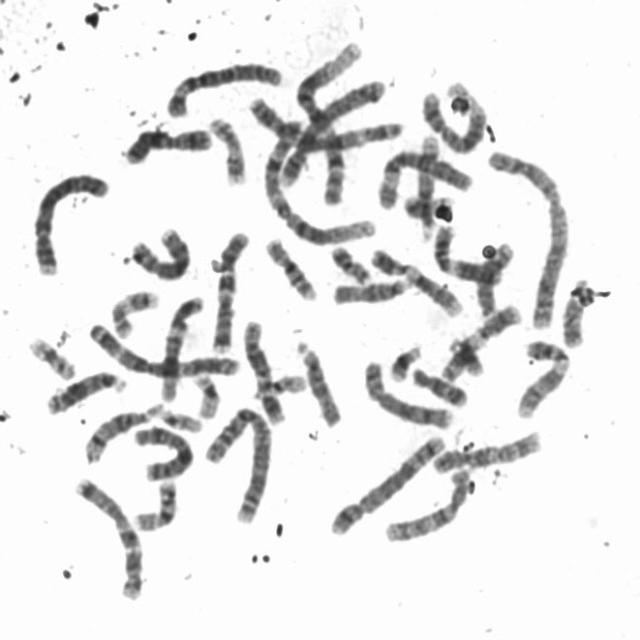A1: (258, 110, 380, 246), (289, 34, 364, 203)
A2: (483, 142, 570, 332), (199, 400, 274, 526)
A3: (83, 316, 244, 379), (244, 90, 406, 150)
B4: (272, 73, 390, 189), (27, 166, 112, 278)
B5: (324, 428, 448, 537), (417, 84, 490, 156)
C10: (380, 464, 478, 545), (428, 424, 545, 476)
C11: (436, 298, 524, 383), (428, 219, 506, 287)
C12: (156, 290, 208, 404), (239, 313, 290, 427)
C6: (160, 56, 284, 120), (373, 144, 476, 212)
C7: (68, 471, 147, 603), (205, 224, 252, 355)
C8: (360, 354, 457, 431), (125, 221, 194, 283)
C9: (364, 242, 464, 318), (512, 333, 573, 420)
D13: (41, 365, 128, 416), (473, 236, 518, 319)
D14: (80, 398, 164, 464), (412, 131, 443, 245)
D15: (291, 335, 344, 430), (330, 271, 416, 307)
E16: (260, 231, 320, 302), (130, 474, 180, 534)
E17: (204, 110, 250, 186), (106, 284, 160, 340)
E18: (406, 361, 469, 409), (206, 226, 251, 274)
F19: (23, 331, 78, 382), (188, 367, 222, 420)
F20: (325, 239, 375, 286), (400, 190, 457, 220)
G21: (445, 333, 487, 379), (384, 338, 425, 384)
G22: (249, 369, 309, 400), (152, 402, 205, 434)
X: (119, 120, 215, 167), (128, 421, 196, 482)
